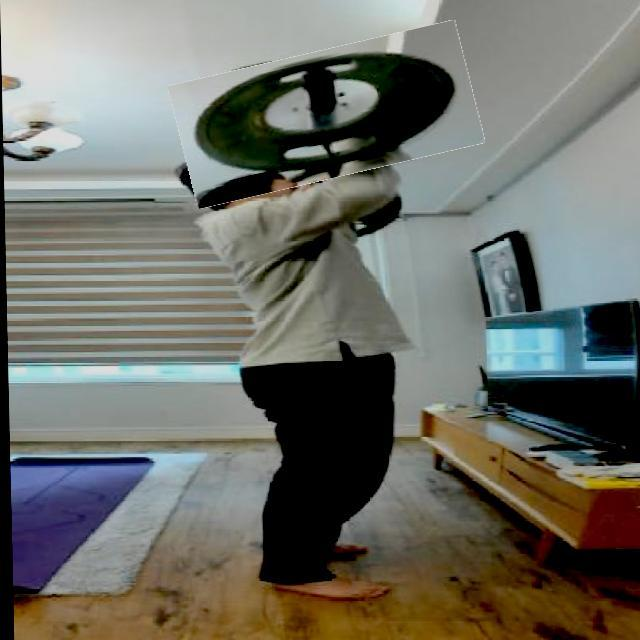barbell: (173, 37, 481, 194)
